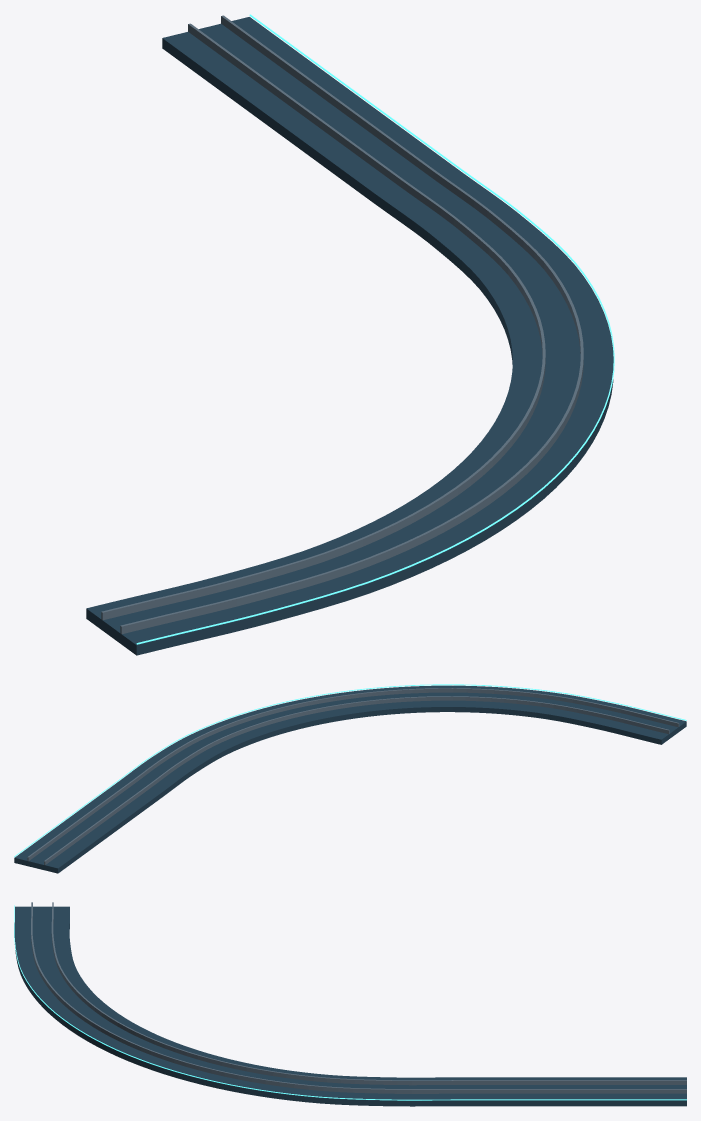
The model's file is track_chunk_09.glb.
3 views of the same model, one above another, from view 1: azimuth 30°, elevation 25°; view 2: azimuth 150°, elevation 25°; view 3: azimuth 270°, elevation 25° (orthographic). The views are drawn at different scales.
Visible parts, largest first — view 1: deck_9, rail_left_9, rail_right_9, edge_light_9; view 2: deck_9, rail_left_9, rail_right_9, edge_light_9; view 3: deck_9, rail_left_9, rail_right_9, edge_light_9.
Part boxes in pixels (bbox=[...]): deck_9: bbox=[86, 17, 613, 655]; rail_left_9: bbox=[120, 15, 583, 634]; rail_right_9: bbox=[101, 23, 545, 620]; edge_light_9: bbox=[136, 14, 614, 644]; deck_9: bbox=[14, 685, 686, 873]; rail_left_9: bbox=[27, 688, 679, 861]; rail_right_9: bbox=[44, 696, 669, 864]; edge_light_9: bbox=[14, 684, 686, 857]; deck_9: bbox=[14, 906, 686, 1106]; rail_left_9: bbox=[31, 902, 686, 1093]; rail_right_9: bbox=[51, 902, 686, 1085]; edge_light_9: bbox=[14, 905, 686, 1100].
Bounding box in the file's own units: 31.77 × 0.7464 × 46.47.
